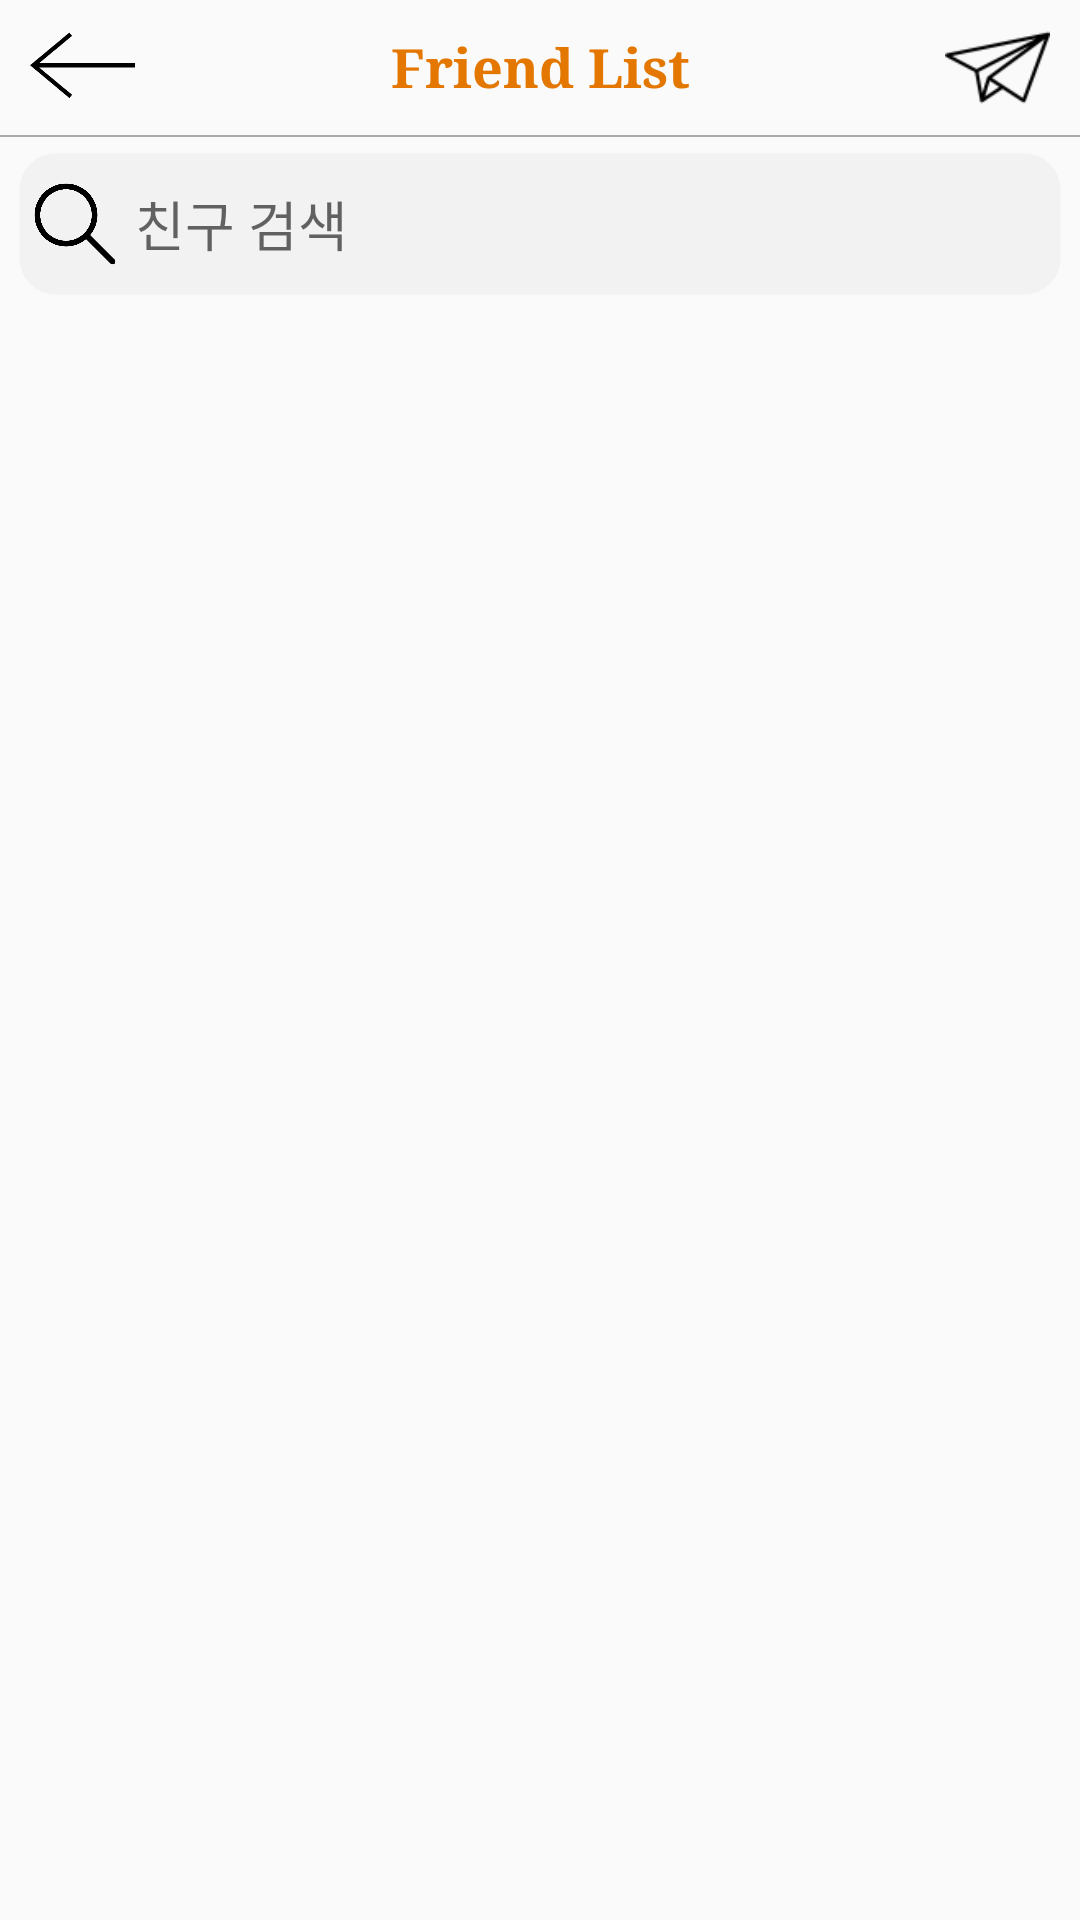

Icon click points for this 1080 x 1920 phone screenshot, format [x,y]:
back: [82,65]
paper plane: [997,67]
search: [74,223]
